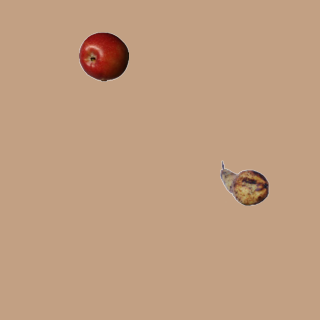Apple Braeburn: (78, 31, 128, 81)
Pear Abate: (219, 158, 269, 208)
